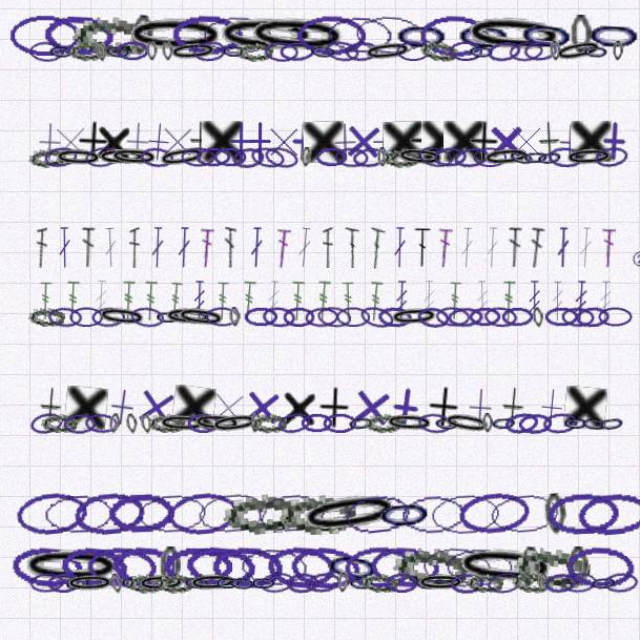chain: (283, 484, 385, 536), (440, 32, 540, 77), (432, 538, 532, 583), (234, 33, 334, 77), (205, 34, 304, 76), (20, 540, 118, 581), (119, 35, 217, 75), (489, 538, 564, 584), (212, 487, 287, 532), (70, 487, 141, 532), (325, 487, 394, 533), (15, 487, 85, 532), (159, 487, 229, 532), (187, 487, 257, 532), (436, 487, 506, 532), (465, 488, 536, 532), (549, 488, 620, 532), (176, 538, 245, 583), (276, 539, 346, 583), (267, 489, 340, 531), (11, 539, 80, 583), (375, 540, 448, 581), (57, 539, 125, 583), (337, 33, 406, 76), (401, 539, 470, 582), (130, 489, 200, 531), (409, 489, 479, 531), (244, 488, 312, 531), (254, 539, 322, 582), (352, 540, 421, 582), (106, 539, 173, 582), (70, 35, 142, 75), (228, 540, 296, 582), (41, 489, 110, 530), (521, 489, 590, 530), (42, 34, 109, 76), (380, 489, 447, 531), (83, 540, 150, 582), (164, 34, 232, 75), (202, 540, 270, 581), (310, 34, 377, 75), (328, 540, 395, 581), (539, 540, 606, 581), (103, 489, 169, 530), (193, 35, 260, 75), (400, 35, 467, 75), (424, 541, 491, 581), (10, 35, 78, 74), (283, 35, 349, 75), (308, 538, 366, 583), (156, 541, 222, 580), (493, 33, 550, 76), (358, 489, 414, 531), (558, 34, 613, 75), (375, 35, 430, 75), (434, 35, 489, 75), (527, 56, 576, 83), (421, 411, 470, 437), (150, 158, 199, 183), (200, 412, 249, 436), (346, 58, 394, 82), (168, 311, 216, 335), (377, 159, 425, 182), (459, 159, 507, 182), (93, 311, 141, 334), (161, 59, 209, 81), (156, 312, 204, 333), (371, 312, 419, 333), (105, 160, 152, 181), (538, 160, 585, 181), (184, 413, 231, 434), (367, 413, 414, 434), (180, 565, 227, 586), (124, 35, 148, 75), (52, 161, 99, 181), (151, 414, 198, 434), (63, 566, 110, 586), (131, 566, 178, 586), (518, 490, 541, 530), (251, 158, 286, 184), (342, 310, 377, 336), (397, 158, 433, 183), (93, 161, 140, 180), (397, 566, 444, 585), (494, 541, 516, 581), (28, 411, 63, 436), (264, 411, 299, 436), (400, 58, 437, 81), (309, 58, 344, 82), (238, 159, 273, 183), (432, 159, 467, 183), (464, 58, 498, 82), (81, 159, 116, 182), (247, 564, 282, 587), (291, 564, 326, 587), (28, 160, 64, 182), (42, 159, 76, 182), (566, 159, 600, 182), (302, 311, 336, 334), (480, 412, 514, 435), (464, 564, 498, 587), (544, 35, 564, 74), (153, 541, 173, 580), (541, 541, 561, 580), (66, 59, 102, 80), (239, 413, 275, 434), (348, 413, 384, 434), (488, 565, 524, 586), (336, 160, 370, 182), (124, 312, 158, 334), (398, 413, 432, 435), (485, 59, 518, 81), (134, 160, 167, 182), (221, 160, 254, 182), (397, 312, 430, 334), (518, 565, 551, 587), (522, 160, 556, 181), (415, 312, 449, 333), (517, 413, 551, 434), (535, 565, 569, 586), (575, 565, 609, 586), (226, 60, 261, 80), (365, 161, 400, 181), (122, 566, 157, 586), (150, 566, 185, 586), (483, 159, 512, 183), (184, 59, 217, 80), (499, 59, 532, 80), (413, 160, 446, 181), (250, 312, 283, 333), (360, 312, 393, 333), (461, 312, 494, 333), (548, 312, 581, 333), (29, 565, 62, 586), (46, 313, 80, 333), (273, 565, 305, 586), (28, 313, 63, 332), (40, 414, 75, 433), (142, 414, 177, 433), (345, 566, 380, 585), (445, 566, 480, 585), (29, 60, 62, 80), (252, 60, 285, 80), (267, 60, 300, 80), (329, 60, 362, 80), (319, 161, 352, 181), (427, 313, 460, 333), (81, 414, 114, 434), (88, 313, 120, 333), (291, 313, 323, 333), (535, 313, 567, 333), (61, 414, 93, 434), (494, 414, 526, 434), (429, 566, 461, 586), (173, 161, 206, 180), (187, 161, 220, 180), (196, 313, 229, 332), (570, 313, 603, 332), (510, 160, 538, 182), (569, 413, 597, 435), (61, 565, 89, 587), (114, 565, 142, 587), (111, 60, 143, 79), (378, 60, 410, 79), (428, 60, 460, 79), (204, 161, 236, 180), (451, 161, 483, 180), (67, 313, 99, 332), (233, 313, 265, 332), (321, 313, 353, 332), (519, 313, 551, 332), (308, 414, 340, 433), (301, 161, 332, 180), (270, 313, 301, 332), (447, 313, 478, 332), (478, 313, 509, 332), (179, 414, 210, 433), (287, 414, 318, 433), (46, 566, 77, 585), (368, 566, 399, 585), (331, 413, 358, 434), (467, 413, 494, 434), (175, 565, 202, 586), (562, 565, 589, 586), (46, 60, 73, 80), (100, 60, 127, 80), (295, 60, 322, 80), (413, 414, 440, 434), (553, 414, 580, 434), (218, 566, 245, 586), (394, 566, 421, 586), (446, 60, 472, 80), (555, 60, 581, 80), (332, 566, 358, 586), (211, 60, 237, 79), (498, 161, 524, 180), (148, 313, 174, 332), (536, 414, 562, 433), (205, 566, 231, 585), (239, 566, 265, 585), (105, 566, 119, 586), (91, 60, 104, 80), (120, 414, 133, 434), (134, 414, 147, 434), (507, 313, 519, 333), (104, 414, 116, 434), (140, 60, 151, 79), (155, 60, 166, 79), (524, 60, 535, 79), (287, 161, 298, 180), (219, 313, 230, 332), (239, 414, 250, 433), (322, 566, 333, 585), (584, 60, 594, 79), (360, 161, 370, 180), (460, 414, 470, 433), (513, 566, 523, 585)
double: (350, 237, 368, 277), (503, 237, 520, 277), (262, 237, 278, 277), (283, 237, 299, 276), (395, 237, 411, 276), (416, 237, 432, 276), (190, 237, 205, 276), (438, 237, 453, 276), (462, 237, 477, 276), (551, 237, 566, 276), (78, 237, 92, 276), (99, 237, 113, 276), (144, 237, 158, 276), (169, 237, 183, 276), (238, 237, 252, 276), (329, 237, 343, 276), (484, 237, 498, 276), (530, 237, 544, 276), (573, 237, 587, 276), (56, 237, 69, 276), (213, 237, 226, 276), (375, 237, 388, 276), (35, 237, 46, 276), (124, 237, 134, 276), (308, 237, 318, 276)
noise: (600, 257, 620, 277), (614, 490, 640, 502)
single: (127, 386, 172, 431), (96, 387, 139, 430), (164, 387, 207, 430), (229, 387, 272, 430), (333, 387, 376, 430), (365, 387, 408, 430), (131, 135, 173, 177), (62, 388, 104, 430), (197, 388, 239, 430), (505, 388, 547, 430), (537, 388, 579, 430), (111, 135, 152, 176), (326, 135, 367, 176), (565, 135, 606, 176), (437, 388, 478, 429), (28, 136, 68, 176), (48, 136, 88, 176), (270, 136, 310, 176), (289, 136, 329, 176), (309, 136, 349, 176), (365, 136, 405, 176), (523, 136, 563, 176), (150, 136, 189, 175), (193, 136, 232, 175), (211, 136, 250, 175), (229, 136, 268, 175), (251, 136, 290, 175), (346, 136, 385, 175), (402, 136, 441, 175), (423, 136, 462, 175), (463, 136, 502, 175), (482, 136, 521, 175), (544, 136, 583, 175), (267, 389, 305, 429), (91, 136, 128, 176), (406, 388, 439, 429), (73, 136, 105, 176), (445, 136, 476, 176), (303, 389, 334, 429), (389, 136, 419, 175), (38, 389, 61, 429), (478, 389, 501, 429), (513, 136, 535, 176), (182, 136, 202, 175)
treble: (350, 288, 367, 328), (160, 288, 176, 328), (230, 288, 246, 327), (253, 288, 269, 327), (63, 288, 78, 327), (137, 288, 152, 327), (277, 288, 292, 327), (301, 288, 316, 327), (546, 288, 561, 327), (90, 288, 104, 327), (116, 288, 130, 327), (206, 288, 220, 327), (376, 288, 390, 327), (402, 288, 416, 327), (427, 288, 441, 327), (453, 288, 467, 327), (478, 288, 492, 327), (570, 288, 584, 327), (38, 288, 51, 327), (184, 288, 197, 327), (326, 288, 339, 327), (503, 288, 516, 327), (525, 288, 538, 327)
